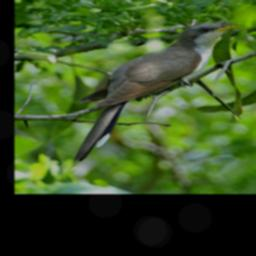Cuckoo: (73, 23, 242, 161)
